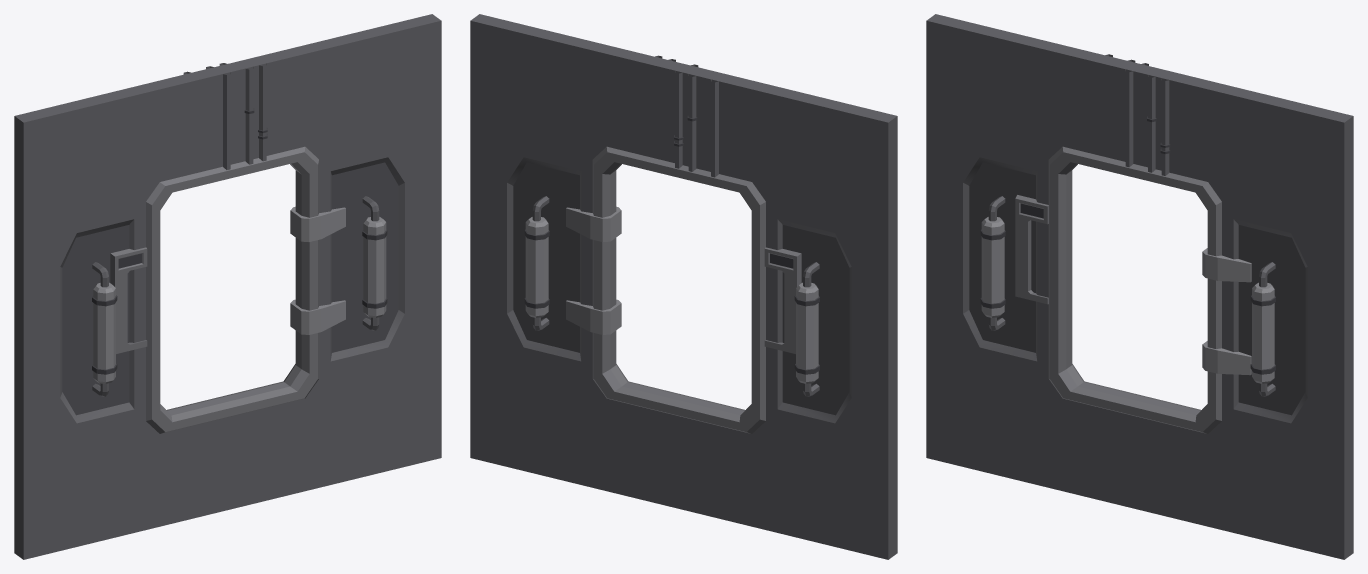
File: SM_Bld_Wall_Doorframe_01.fbx
3 views of the same model, side by side, from view 1: azimuth 30°, elevation 25°; view 2: azimuth 150°, elevation 25°; view 3: azimuth 330°, elevation 25° (orthographic).
Visible parts, largest first — view 1: SM_Bld_Wall_Doorframe_01_LOD0; view 2: SM_Bld_Wall_Doorframe_01_LOD0; view 3: SM_Bld_Wall_Doorframe_01_LOD0.
Boxes of the visible parts, x1,y1,x2,y2 form: SM_Bld_Wall_Doorframe_01_LOD0: (14,14,441,559); SM_Bld_Wall_Doorframe_01_LOD0: (470,14,897,559); SM_Bld_Wall_Doorframe_01_LOD0: (926,14,1353,559).
Bounding box in the file's own units: 72.82 × 500 × 500.
1 material, 1 textured.
